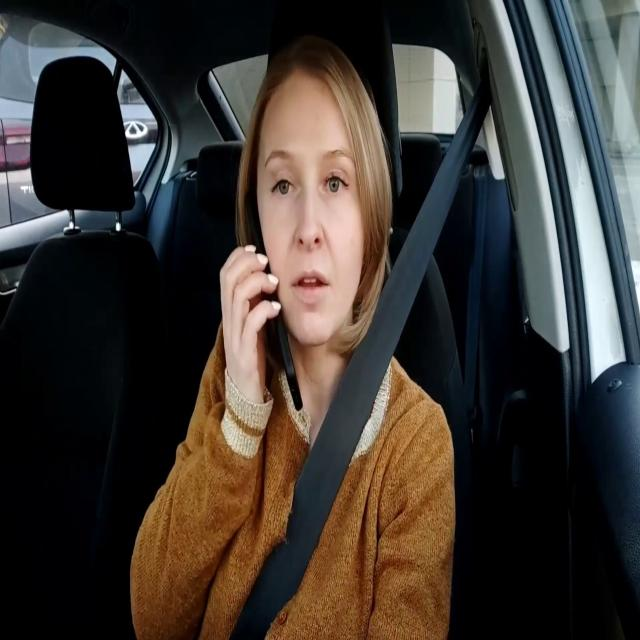phone: (244, 189, 304, 410)
